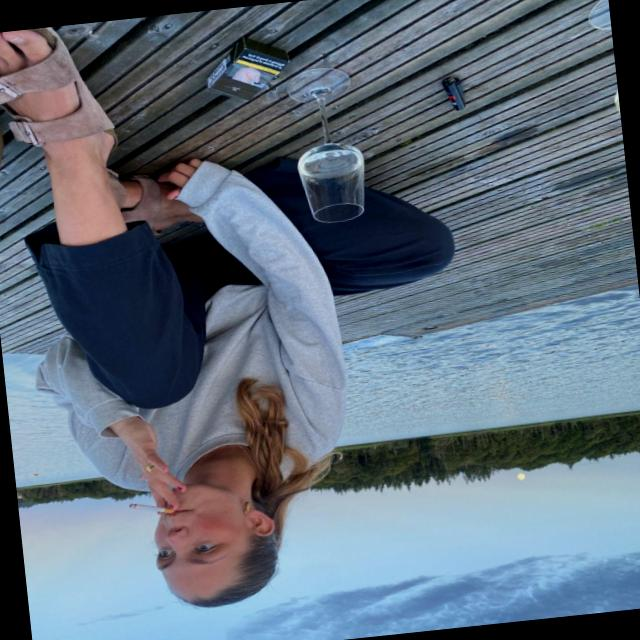smoke: (110, 486, 196, 530)
